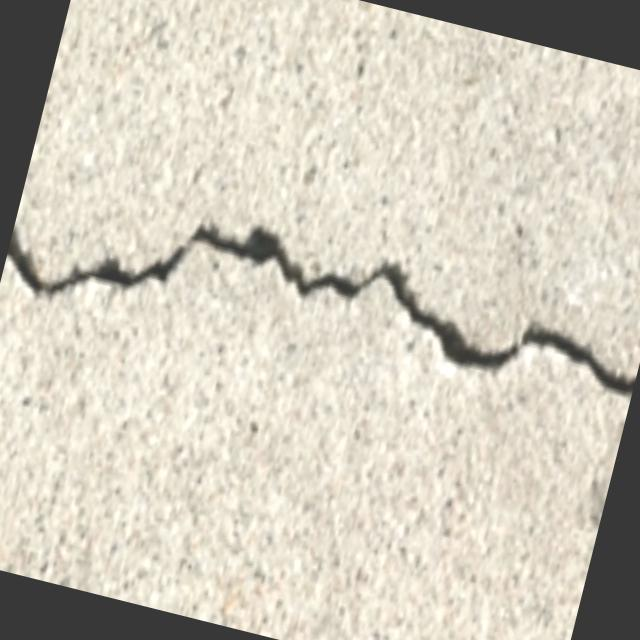crack: (0, 158, 640, 440)
